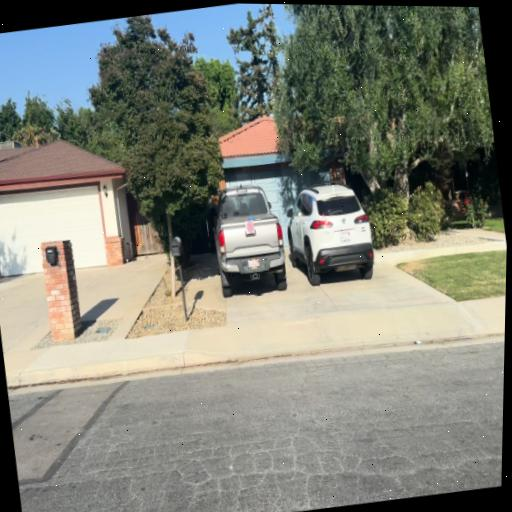bullseye: (246, 220, 255, 234)
